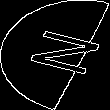N_E: (10, 28, 100, 82)
